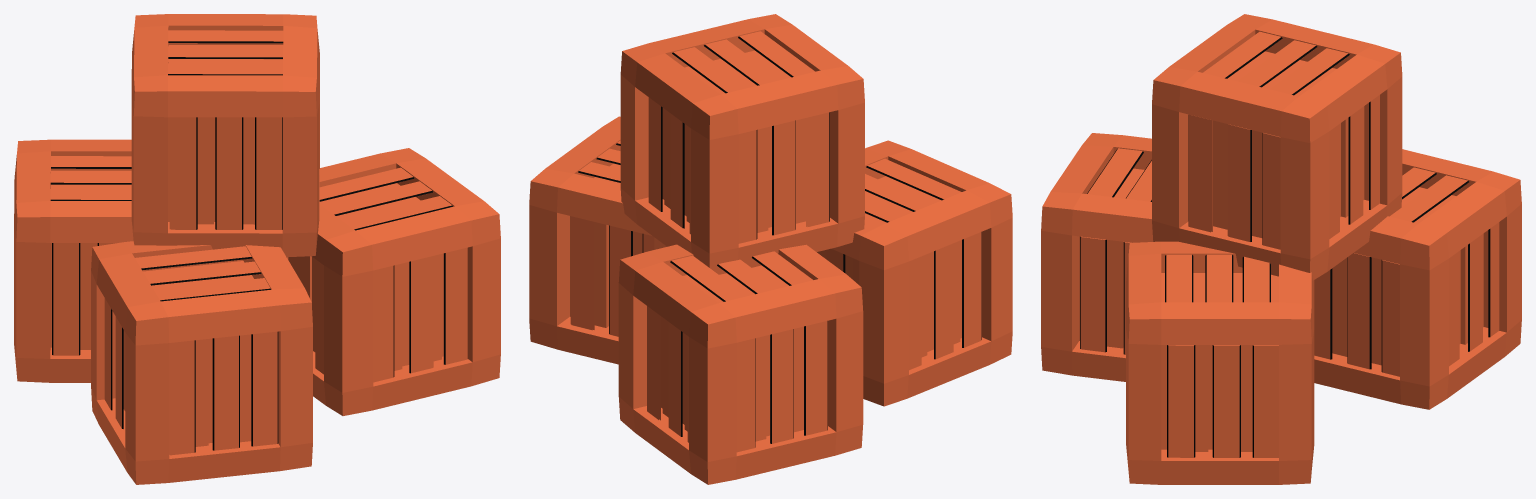
3 views of the same model, side by side, from view 1: azimuth 30°, elevation 25°; view 2: azimuth 150°, elevation 25°; view 3: azimuth 270°, elevation 25° (orthographic). The views are drawn at different scales.
Visible parts, largest first — view 1: Cube.005, Cube.007, Cube.015, Cube.006; view 2: Cube.007, Cube.006, Cube.005, Cube.015; view 3: Cube.007, Cube.015, Cube.006, Cube.005.
Part boxes in pixels (x1=…): Cube.005: x1=91, y1=241, x2=312, y2=484; Cube.007: x1=131, y1=14, x2=319, y2=257; Cube.015: x1=287, y1=148, x2=500, y2=415; Cube.006: x1=14, y1=139, x2=133, y2=382; Cube.007: x1=620, y1=14, x2=864, y2=274; Cube.006: x1=618, y1=244, x2=863, y2=484; Cube.005: x1=817, y1=140, x2=1012, y2=406; Cube.015: x1=529, y1=116, x2=666, y2=364; Cube.007: x1=1152, y1=14, x2=1402, y2=280; Cube.015: x1=1126, y1=241, x2=1314, y2=484; Cube.006: x1=1314, y1=149, x2=1521, y2=409; Cube.005: x1=1041, y1=133, x2=1153, y2=381.
Size of the model in its own units: 521 by 420 by 561.
